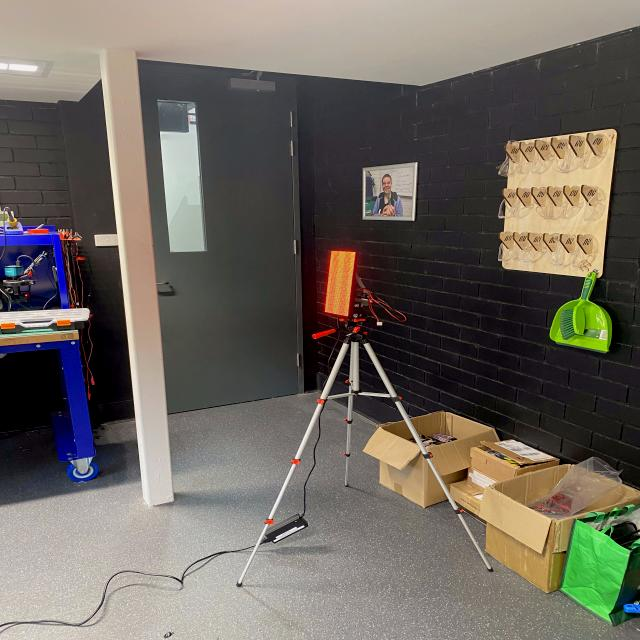matrix: (319, 248, 362, 318)
